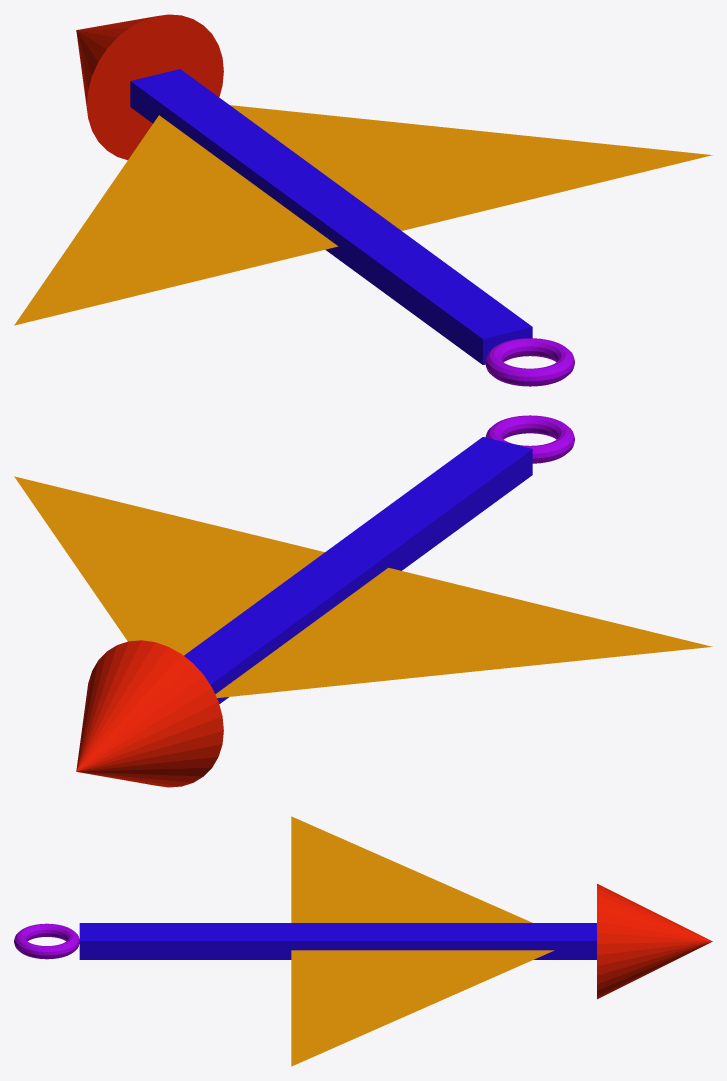
Rendered from jet.glb.
3 renders of one model, top to bottom at view 1: azimuth 30°, elevation 25°; view 2: azimuth 150°, elevation 25°; view 3: azimuth 270°, elevation 25°, orthographic. The views are drawn at different scales.
Visible parts, largest first — view 1: Plane.001, Plane, Cube, Cone, Torus; view 2: Plane.001, Plane, Cube, Cone, Torus; view 3: Cube, Plane, Plane.001, Cone, Torus.
Boxes of the visible parts, x1,y1,x2,y2 form: Plane.001: (14, 115, 338, 325); Plane: (230, 105, 712, 230); Cube: (130, 69, 532, 364); Cone: (76, 14, 223, 160); Torus: (485, 338, 574, 386); Plane.001: (215, 567, 712, 698); Plane: (14, 476, 324, 655); Cube: (184, 437, 532, 703); Cone: (76, 640, 223, 787); Torus: (485, 415, 574, 463); Cube: (79, 923, 596, 959); Plane: (291, 950, 554, 1066); Plane.001: (291, 816, 532, 922); Cone: (597, 883, 712, 999); Torus: (14, 923, 79, 959).
Bounding box in the file's own units: 11.22 × 2.2 × 13.24.
